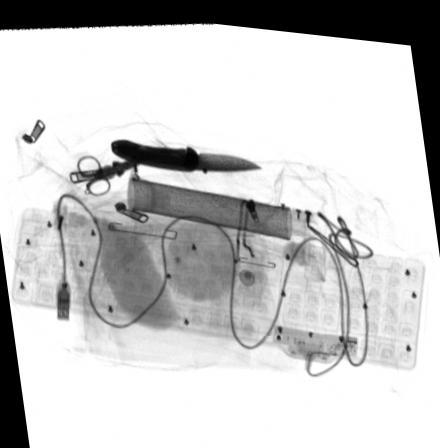Knife: (108, 135, 262, 167)
Scissors: (76, 152, 155, 195)
